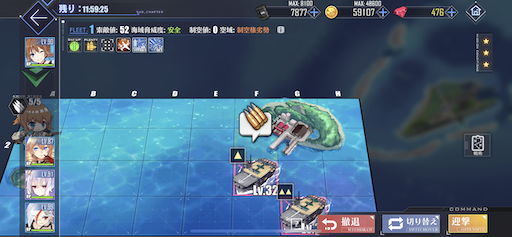lv1: (227, 145, 277, 195)
lv2: (278, 179, 328, 232)
